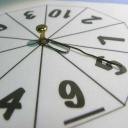Metal: (37, 31, 78, 62)
